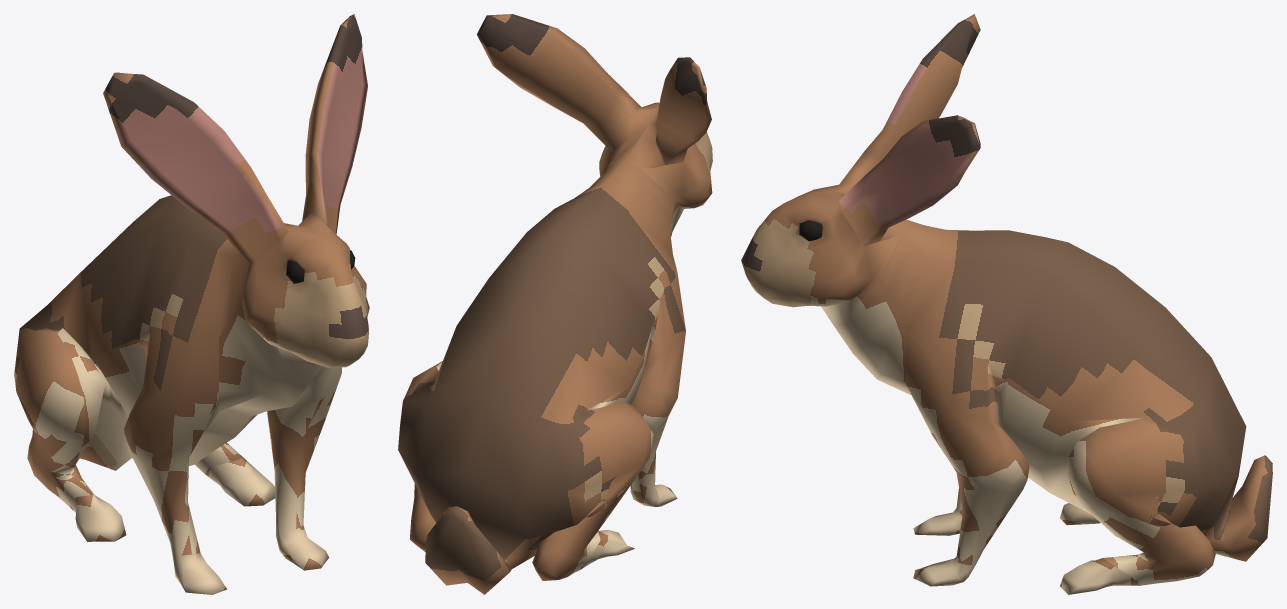
File: hare-russet.glb
3 renders of one model, left to right at view 1: azimuth 30°, elevation 25°; view 2: azimuth 150°, elevation 25°; view 3: azimuth 270°, elevation 25°, orthographic. The views are drawn at different scales.
Visible parts, largest first — view 1: hare-russet runtime mesh; view 2: hare-russet runtime mesh; view 3: hare-russet runtime mesh.
Boxes of the visible parts, x1=… form: hare-russet runtime mesh: x1=14, y1=14, x2=369, y2=594; hare-russet runtime mesh: x1=398, y1=14, x2=712, y2=594; hare-russet runtime mesh: x1=741, y1=14, x2=1272, y2=594.
Bounding box in the file's own units: 0.2403 × 0.45 × 0.4459.
Materials: 2 (1 with a texture image).
